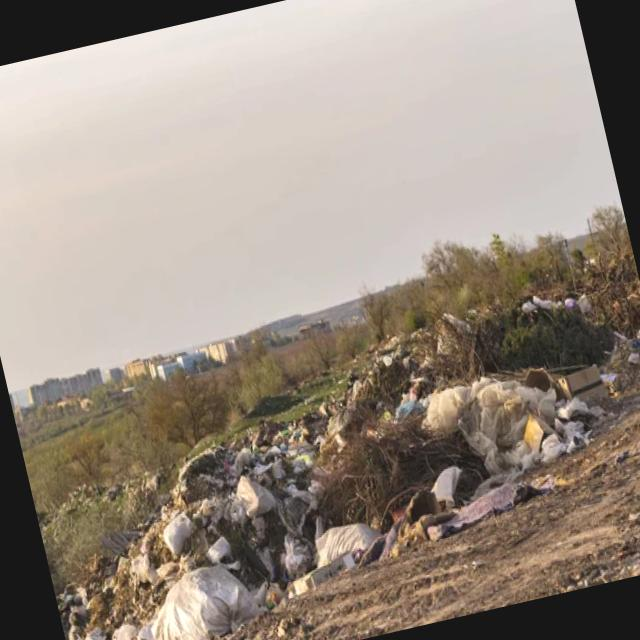garbage: (14, 290, 621, 640)
